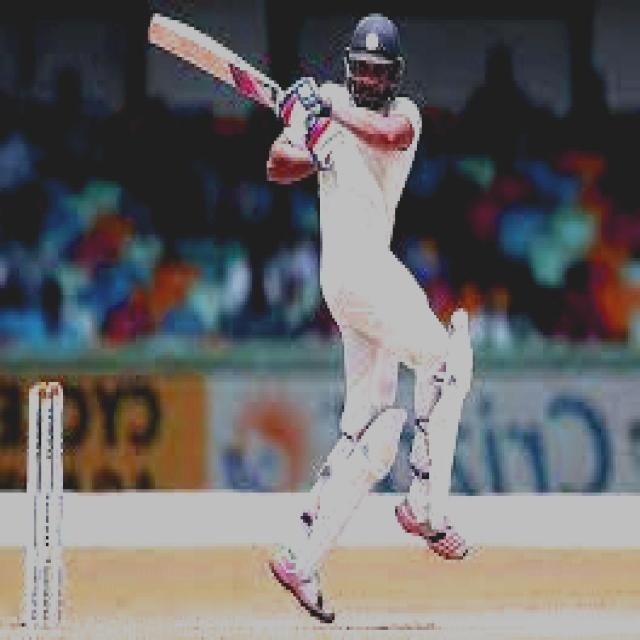toe: (144, 7, 161, 52)
